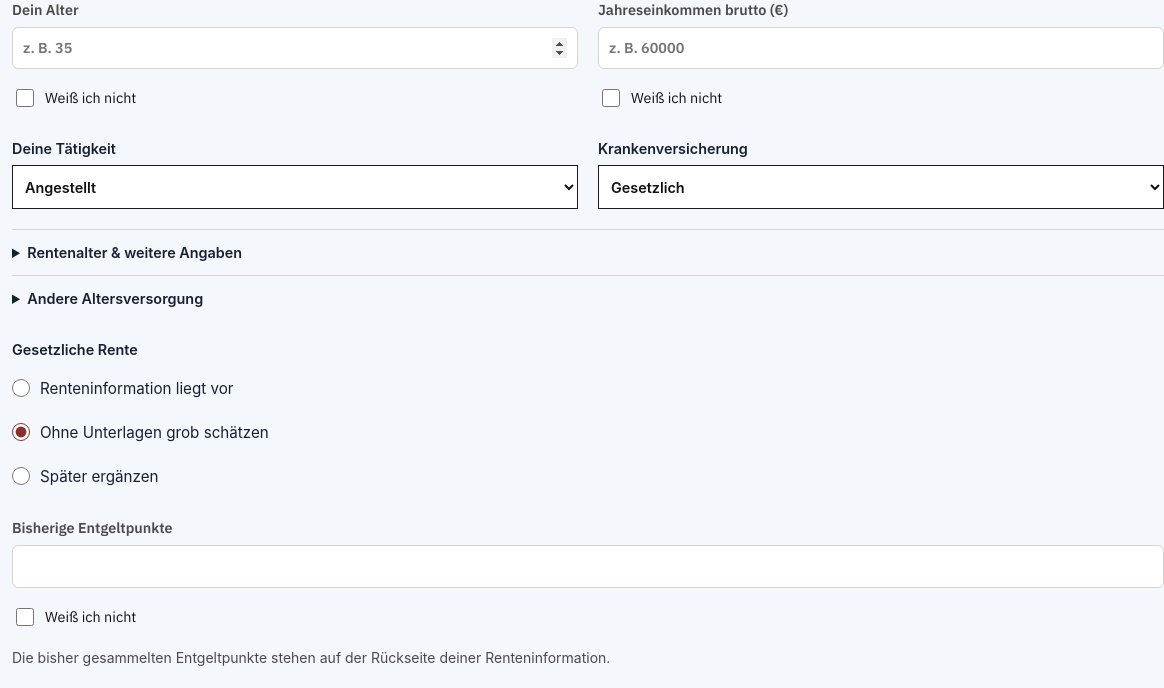
Scenario: onboarding select placeholders › omits placeholders for preselected values, including private health insurance
Expected: the dropdown labelled "Deine Tätigkeit" shows "Angestellt", [12, 165, 578, 209]
Select "Privat" in the dropdown labelled "Krankenversicherung" at (881, 187), box [598, 165, 1163, 209]
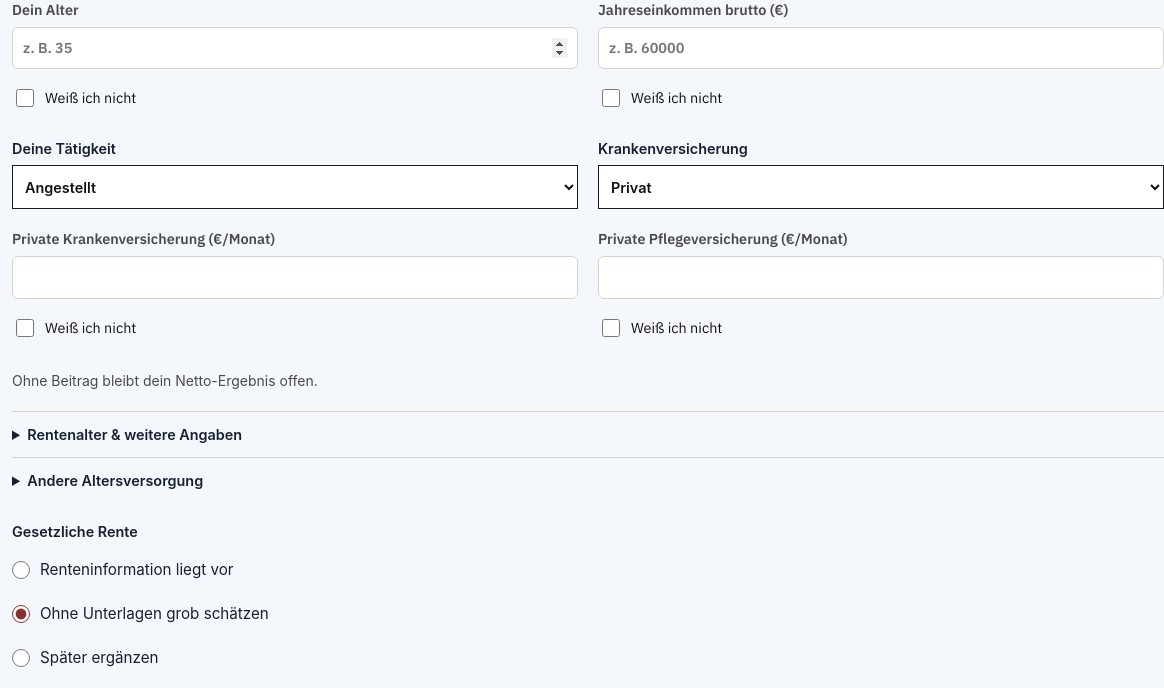
Click the heading "Andere Altersversorgung" at (115, 480), box [27, 472, 203, 489]
(page scrolled)
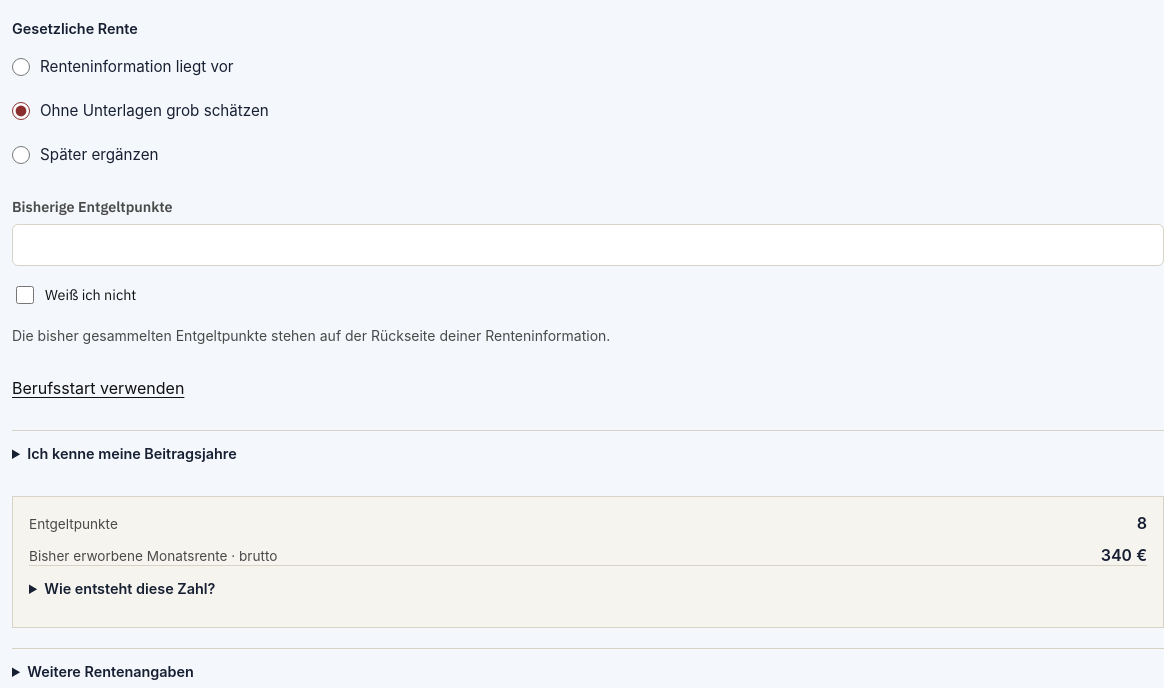
Click the heading "Weitere Rentenangaben" at (111, 671), box [27, 663, 194, 680]
(page scrolled)
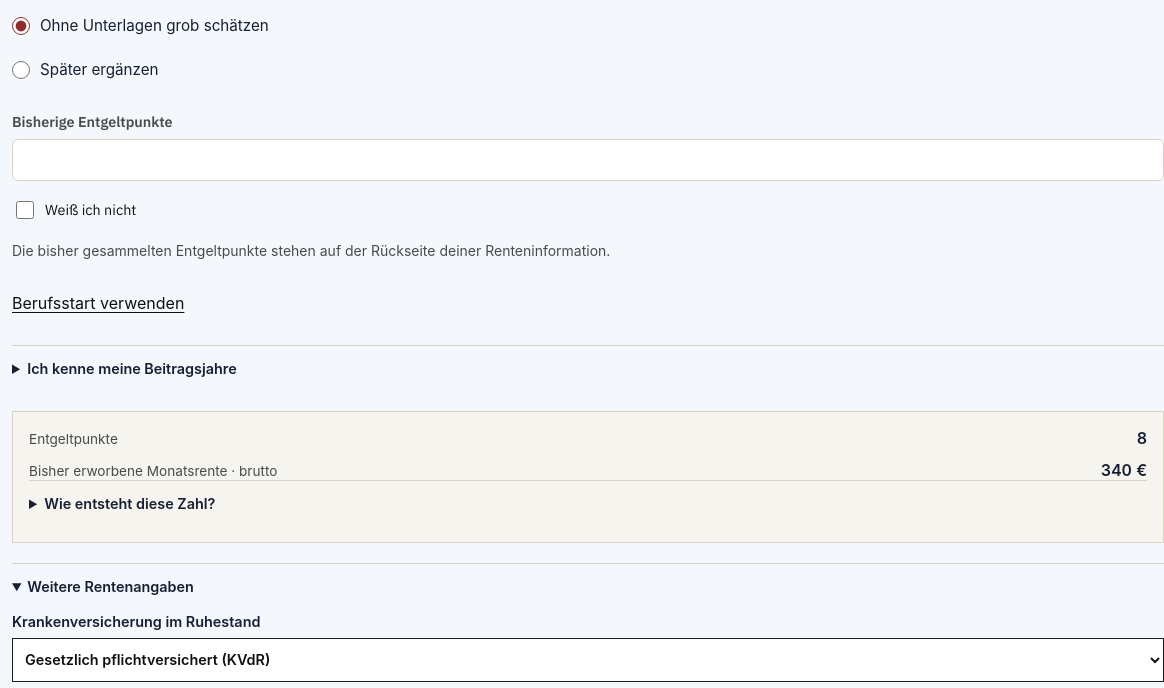
Now the dropdown labelled "Krankenversicherung im Ruhestand" shows "Gesetzlich pflichtversichert (KVdR)", box [12, 638, 1163, 682]
